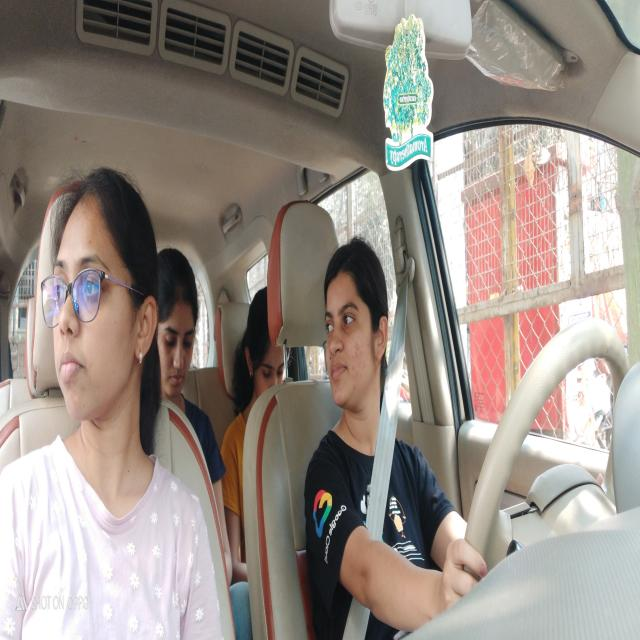LeftRight: (322, 235, 390, 412)
person: (50, 170, 163, 426), (160, 242, 204, 404), (244, 289, 294, 397)
